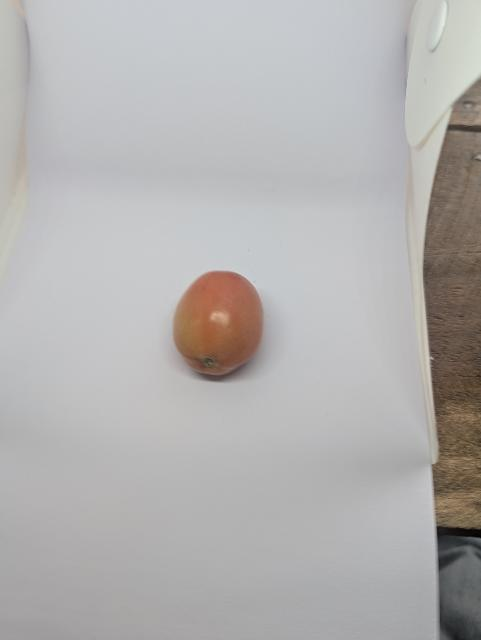turning: (170, 267, 269, 385)
